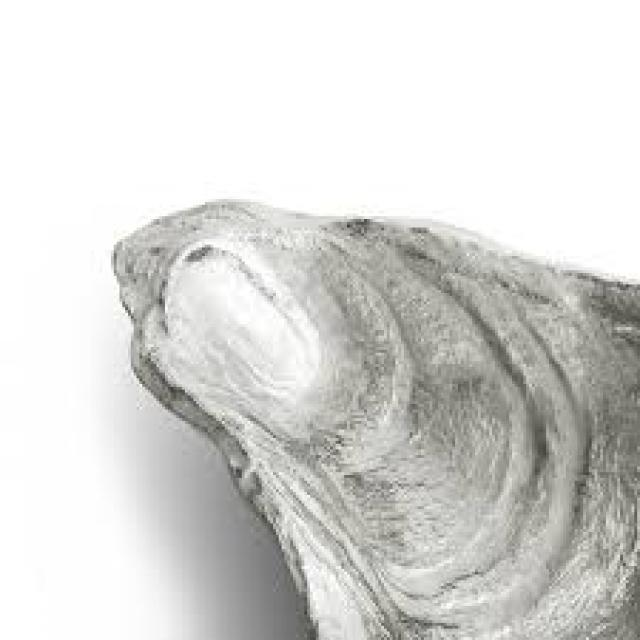Oyster- Indeterminate: (114, 201, 640, 640)
